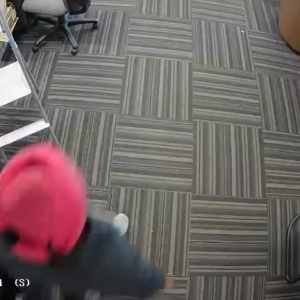person: (3, 148, 141, 297)
